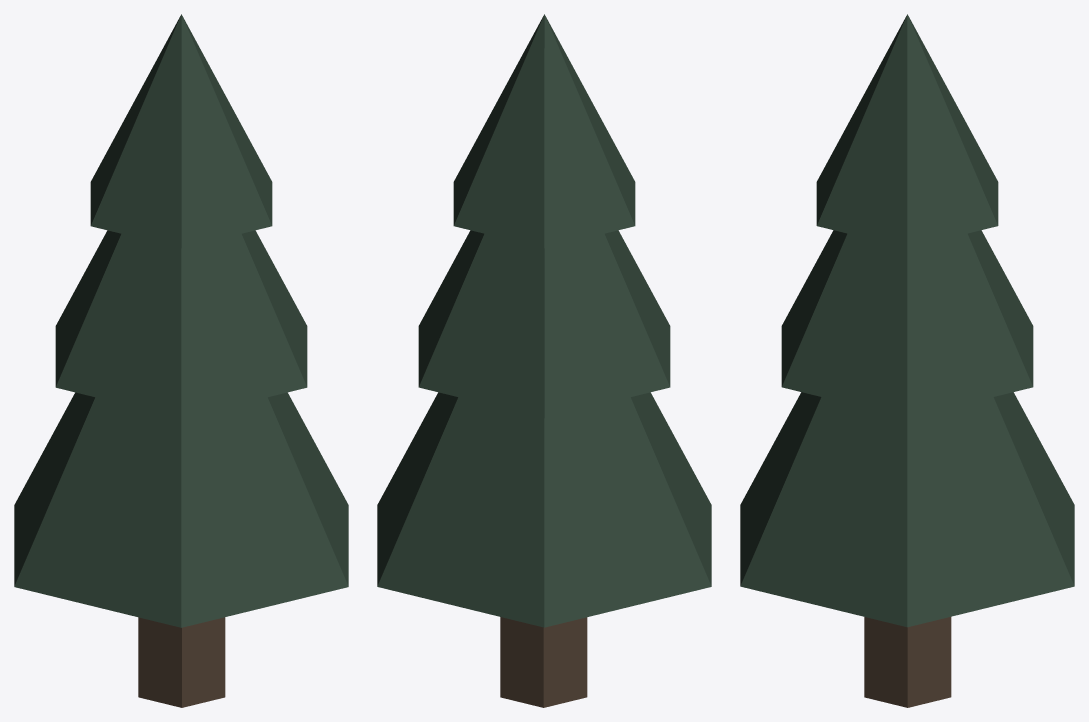
The model's file is BigTreeTriangle.fbx.
The picture shows the model from 3 angles, left to right: view 1: azimuth 30°, elevation 25°; view 2: azimuth 150°, elevation 25°; view 3: azimuth 270°, elevation 25°; orthographic projection.
Parts seen in each view (by area): view 1: BigTreeTriangle; view 2: BigTreeTriangle; view 3: BigTreeTriangle.
Part boxes in pixels (bbox=[...]): BigTreeTriangle: bbox=[14, 14, 348, 707]; BigTreeTriangle: bbox=[377, 14, 711, 707]; BigTreeTriangle: bbox=[740, 14, 1074, 707].
Bounding box in the file's own units: 617 × 1185 × 534.
